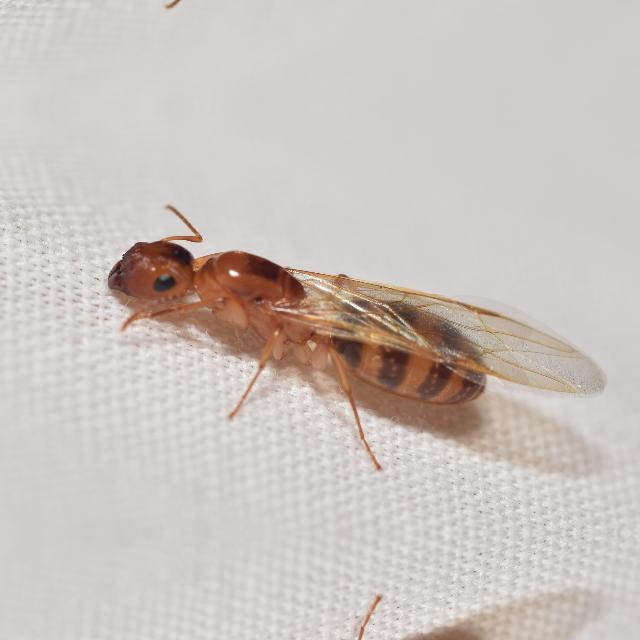Colobopsis: (67, 202, 635, 444)
